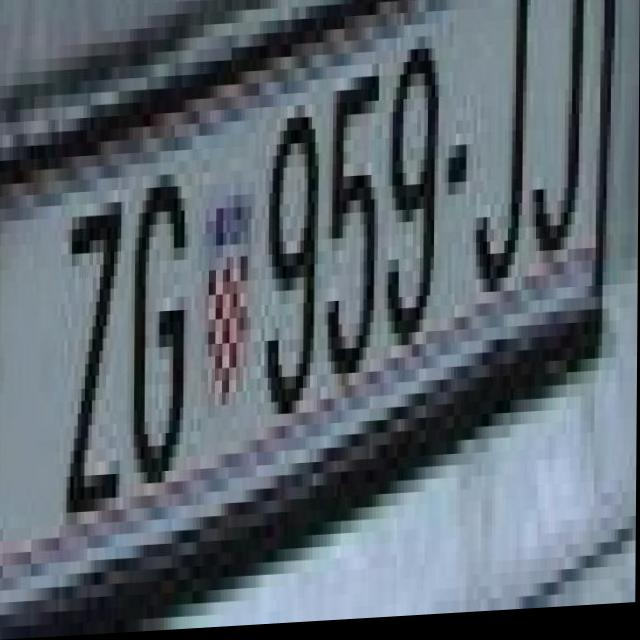5: (325, 56, 380, 379)
9: (261, 120, 320, 419), (388, 41, 439, 363)
G: (127, 151, 186, 486)
Z: (63, 191, 122, 526)
